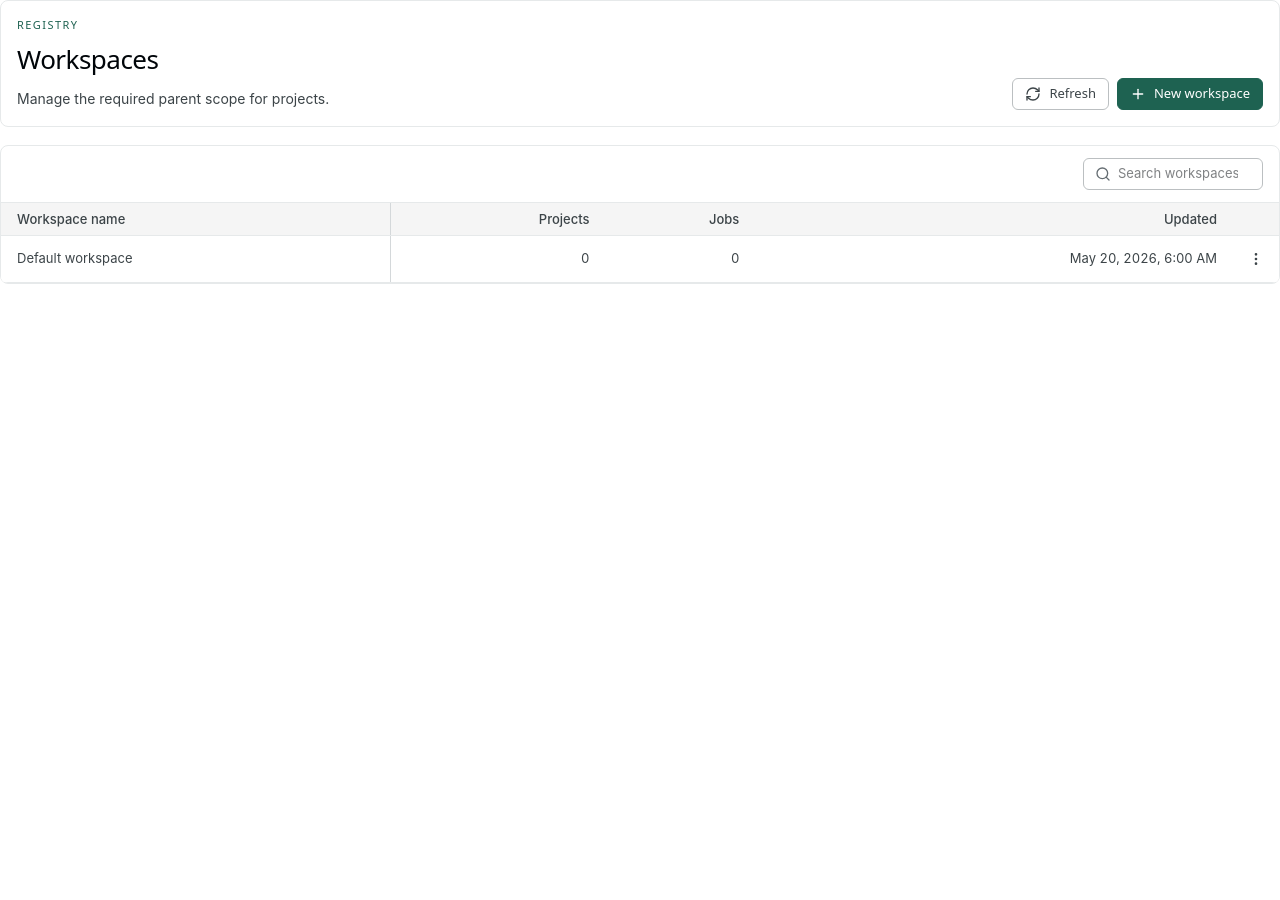
Test: RegistryWorkspacesPage › opens a workspace delete plan before moving a workspace to trash
Expected: the table named "Workspace registry" is shown, [1,203,1279,282]
Expected: the link "Default workspace" is shown, [17,250,132,266]
Click the button named "Actions for Default workspace": (1256, 259) [1240,243,1272,275]
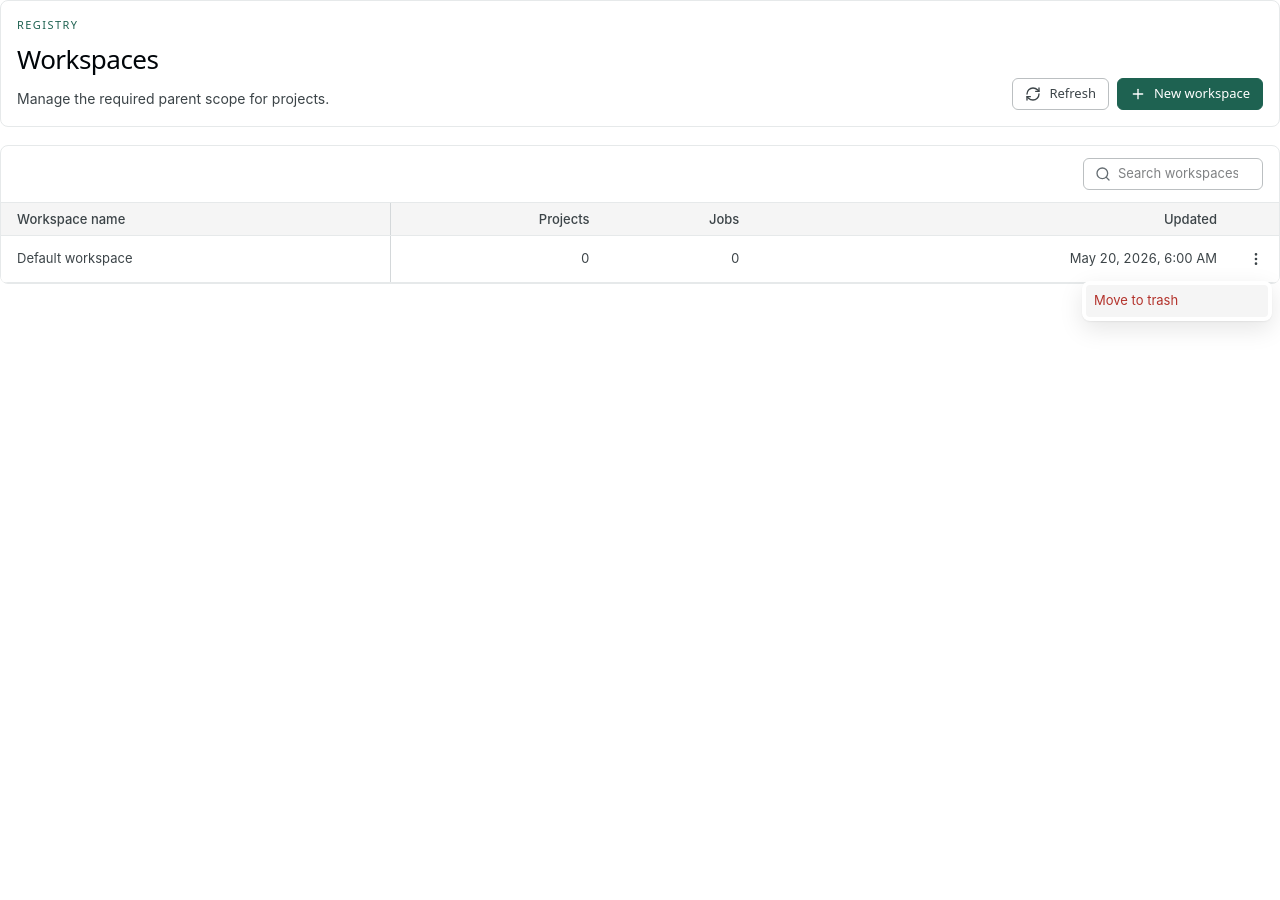
Click the menu item "Move to trash": (1177, 301) [1086,285,1268,317]
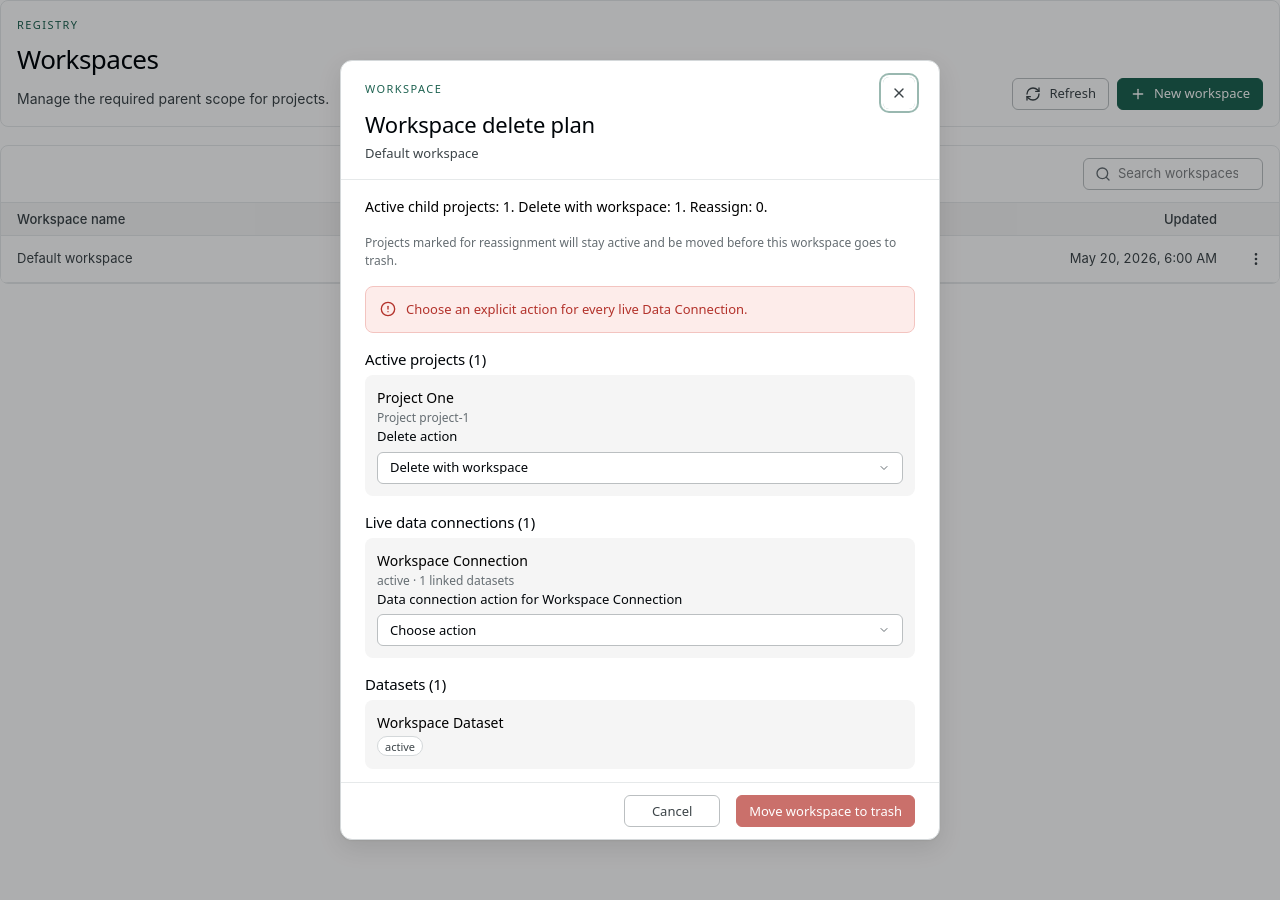
Expected: the heading "Workspace delete plan" is shown, [365,109,595,139]
Expected: the text "Project One" is shown, [377,388,454,407]
Expected: the text "Workspace Dataset" is shown, [377,713,504,732]
